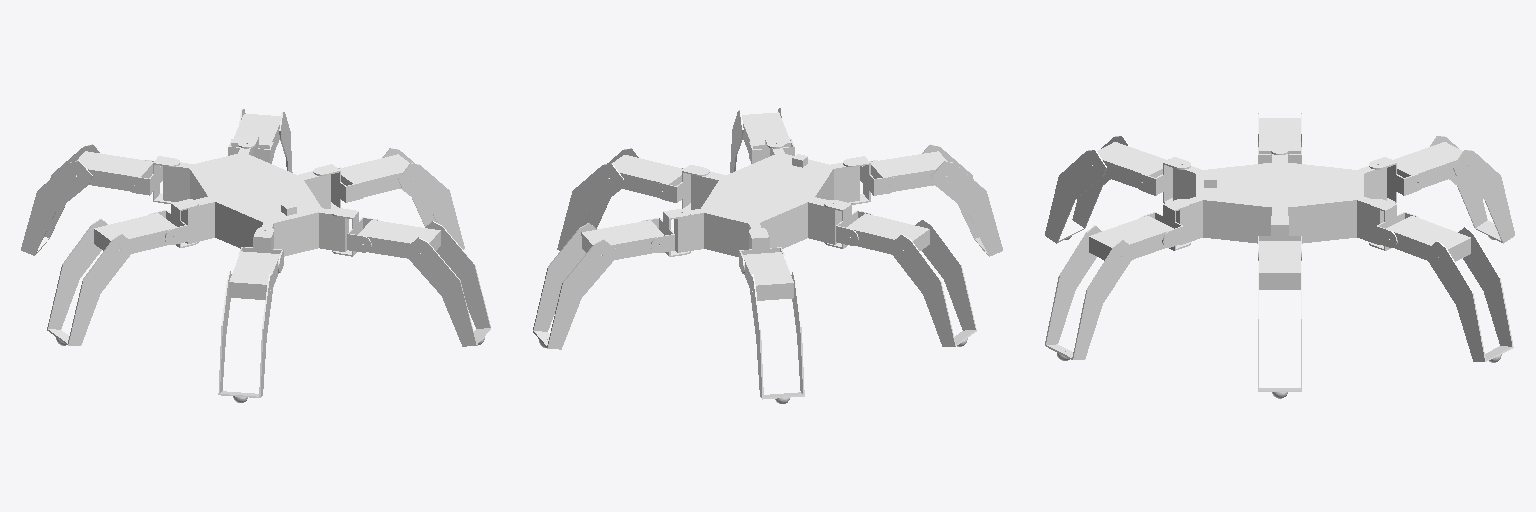
--- What the picture shows (computed from the rendered views, not written in the file) ---
3 views of the same robot in one strip: view 1: azimuth 30°, elevation 25°; view 2: azimuth 150°, elevation 25°; view 3: azimuth 270°, elevation 25° (orthographic).
Robot: Spider.SLDASM — 25 links, 24 joints (18 continuous, 6 fixed); root link body_link; default pose: all joints at 0.
Links seen in each view (by area): view 1: body_link, FrontLeft_Link_3, MidRight_Link_3, BackRight_Link_3, MidLeft_Link_3, MidRight_Link_2, FrontRight_Link_2, FrontLeft_Link_2, BackRight_Link_2, MidLeft_Link_2, FrontRight_Link_3, BackLeft_Link_2 (+6 smaller); view 2: body_link, BackLeft_Link_3, MidRight_Link_3, FrontRight_Link_3, MidLeft_Link_3, MidRight_Link_2, BackRight_Link_2, BackLeft_Link_2, FrontRight_Link_2, MidLeft_Link_2, BackRight_Link_3, FrontLeft_Link_2 (+7 smaller); view 3: body_link, BackLeft_Link_3, FrontLeft_Link_3, BackRight_Link_3, FrontRight_Link_3, BackLeft_Link_2, FrontLeft_Link_2, MidLeft_Link_2, FrontRight_Link_2, BackRight_Link_2, MidRight_Link_2, FrontRight_Link_1 (+4 smaller).
Link boxes in pixels (x1,y1,x2,y2): body_link: (163, 147, 348, 256); FrontLeft_Link_3: (405, 221, 490, 346); MidRight_Link_3: (47, 219, 133, 345); BackRight_Link_3: (21, 144, 101, 255); MidLeft_Link_3: (382, 148, 464, 249); MidRight_Link_2: (94, 213, 176, 253); FrontRight_Link_2: (229, 251, 279, 299); FrontLeft_Link_2: (358, 220, 440, 258); BackRight_Link_2: (76, 151, 152, 190); MidLeft_Link_2: (339, 154, 409, 196); FrontRight_Link_3: (218, 271, 272, 397); BackLeft_Link_2: (232, 114, 280, 149); body_link: (674, 148, 859, 256); BackLeft_Link_3: (533, 223, 617, 349); MidRight_Link_3: (889, 219, 976, 346); FrontRight_Link_3: (922, 144, 1002, 256); MidLeft_Link_3: (557, 148, 639, 250); MidRight_Link_2: (846, 213, 929, 254); BackRight_Link_2: (743, 252, 793, 300); BackLeft_Link_2: (581, 220, 663, 259); FrontRight_Link_2: (870, 151, 946, 191); MidLeft_Link_2: (609, 155, 683, 197); BackRight_Link_3: (750, 272, 804, 399); FrontLeft_Link_2: (742, 112, 790, 149); body_link: (1173, 154, 1386, 244); BackLeft_Link_3: (1425, 227, 1513, 361); FrontLeft_Link_3: (1045, 225, 1134, 359); BackRight_Link_3: (1430, 136, 1514, 243); FrontRight_Link_3: (1045, 136, 1129, 243); BackLeft_Link_2: (1386, 216, 1470, 261); FrontLeft_Link_2: (1089, 216, 1173, 260); MidLeft_Link_2: (1259, 241, 1300, 289); FrontRight_Link_2: (1097, 142, 1166, 187); BackRight_Link_2: (1393, 142, 1462, 187); MidRight_Link_2: (1259, 118, 1300, 153); FrontRight_Link_1: (1135, 157, 1190, 203).
Bounding box of the posed robot: 0.5908 × 0.5798 × 0.1693 m (x, y, z).
25 mesh visuals loaded from 25 distinct referenced files (25 binary STL).

robot.urdf — Spider.SLDASM:
<?xml version="1.0" encoding="utf-8"?>
<!-- This URDF was automatically created by SolidWorks to URDF Exporter! Originally created by Stephen Brawner ([email redacted]) 
     Commit Version: 1.6.0-4-g7f85cfe  Build Version: 1.6.7995.38578
     For more information, please see http://wiki.ros.org/sw_urdf_exporter -->
<robot
  name="Spider.SLDASM">
  <link
    name="body_link">
    <inertial>
      <origin
        xyz="5.29664533703037E-19 -0.000144865532990733 0.0255516997389631"
        rpy="0 0 0" />
      <mass
        value="1.32737614108552" />
      <inertia
        ixx="0.00516439689746087"
        ixy="-1.19602454514094E-20"
        ixz="7.38329197477677E-20"
        iyy="0.0023298754638689"
        iyz="5.85493569360357E-06"
        izz="0.00691561364995837" />
    </inertial>
    <visual>
      <origin
        xyz="0 0 0"
        rpy="0 0 0" />
      <geometry>
        <mesh
          filename="package://Spider.SLDASM/meshes/body_link.STL" />
      </geometry>
      <material
        name="">
        <color
          rgba="1 1 1 1" />
      </material>
    </visual>
    <collision>
      <origin
        xyz="0 0 0"
        rpy="0 0 0" />
      <geometry>
        <mesh
          filename="package://Spider.SLDASM/meshes/body_link.STL" />
      </geometry>
    </collision>
  </link>
  <link
    name="FrontLeft_Link_1">
    <inertial>
      <origin
        xyz="-3.46944695195361E-17 0.0255 0.0205"
        rpy="0 0 0" />
      <mass
        value="0.00922676977252031" />
      <inertia
        ixx="4.24965979791988E-06"
        ixy="-1.68070301361626E-21"
        ixz="5.9292306307801E-21"
        iyy="4.24965979791991E-06"
        iyz="-1.33870853805745E-21"
        izz="5.2892705313521E-06" />
    </inertial>
    <visual>
      <origin
        xyz="0 0 0"
        rpy="0 0 0" />
      <geometry>
        <mesh
          filename="package://Spider.SLDASM/meshes/FrontLeft_Link_1.STL" />
      </geometry>
      <material
        name="">
        <color
          rgba="1 1 1 1" />
      </material>
    </visual>
    <collision>
      <origin
        xyz="0 0 0"
        rpy="0 0 0" />
      <geometry>
        <mesh
          filename="package://Spider.SLDASM/meshes/FrontLeft_Link_1.STL" />
      </geometry>
    </collision>
  </link>
  <joint
    name="FrontLeft_joint_1"
    type="continuous">
    <origin
      xyz="0.0561119378639181 -0.120623091212984 0"
      rpy="1.5707963267949 0 0.691840766475244" />
    <parent
      link="body_link" />
    <child
      link="FrontLeft_Link_1" />
    <axis
      xyz="0 1 0" />
  </joint>
  <link
    name="FrontLeft_Link_2">
    <inertial>
      <origin
        xyz="-1.66533453693773E-16 -6.93889390390723E-18 0.0395000000000001"
        rpy="0 0 0" />
      <mass
        value="0.106269557549334" />
      <inertia
        ixx="8.39635619451228E-05"
        ixy="-1.88128881320756E-20"
        ixz="-3.81164826264435E-20"
        iyy="0.000102698438654554"
        iyz="5.15553422259384E-21"
        izz="2.73329764882054E-05" />
    </inertial>
    <visual>
      <origin
        xyz="0 0 0"
        rpy="0 0 0" />
      <geometry>
        <mesh
          filename="package://Spider.SLDASM/meshes/FrontLeft_Link_2.STL" />
      </geometry>
      <material
        name="">
        <color
          rgba="1 1 1 1" />
      </material>
    </visual>
    <collision>
      <origin
        xyz="0 0 0"
        rpy="0 0 0" />
      <geometry>
        <mesh
          filename="package://Spider.SLDASM/meshes/FrontLeft_Link_2.STL" />
      </geometry>
    </collision>
  </link>
  <joint
    name="FrontLeft_joint_2"
    type="continuous">
    <origin
      xyz="0 0.0255 0.041"
      rpy="0 0 0" />
    <parent
      link="FrontLeft_Link_1" />
    <child
      link="FrontLeft_Link_2" />
    <axis
      xyz="1 0 0" />
  </joint>
  <link
    name="FrontLeft_Link_3">
    <inertial>
      <origin
        xyz="-0.0601821739751955 -1.52655665885959E-16 -0.0105815979870852"
        rpy="0 0 0" />
      <mass
        value="0.0217393761614031" />
      <inertia
        ixx="2.00787196323979E-05"
        ixy="-1.91429446079472E-19"
        ixz="-1.21157508511739E-05"
        iyy="5.15782871842404E-05"
        iyz="-1.23666810299128E-19"
        izz="6.00736400689357E-05" />
    </inertial>
    <visual>
      <origin
        xyz="0 0 0"
        rpy="0 0 0" />
      <geometry>
        <mesh
          filename="package://Spider.SLDASM/meshes/FrontLeft_Link_3.STL" />
      </geometry>
      <material
        name="">
        <color
          rgba="1 1 1 1" />
      </material>
    </visual>
    <collision>
      <origin
        xyz="0 0 0"
        rpy="0 0 0" />
      <geometry>
        <mesh
          filename="package://Spider.SLDASM/meshes/FrontLeft_Link_3.STL" />
      </geometry>
    </collision>
  </link>
  <joint
    name="FrontLeft_joint_3"
    type="continuous">
    <origin
      xyz="0 0 0.079"
      rpy="0 0.7854 1.5708" />
    <parent
      link="FrontLeft_Link_2" />
    <child
      link="FrontLeft_Link_3" />
    <axis
      xyz="0 1 0" />
  </joint>
  <link
    name="FrontLeft_Link_4">
    <inertial>
      <origin
        xyz="-5.55111512312578E-17 -0.0062186714819164 -2.77555756156289E-17"
        rpy="0 0 0" />
      <mass
        value="0.00206305784706667" />
      <inertia
        ixx="5.40069862027422E-08"
        ixy="-3.7843513024301E-23"
        ixz="-4.96308367531817E-24"
        iyy="8.3760148590907E-08"
        iyz="9.0989867380833E-24"
        izz="5.40069862027423E-08" />
    </inertial>
    <visual>
      <origin
        xyz="0 0 0"
        rpy="0 0 0" />
      <geometry>
        <mesh
          filename="package://Spider.SLDASM/meshes/FrontLeft_Link_4.STL" />
      </geometry>
      <material
        name="">
        <color
          rgba="1 1 1 1" />
      </material>
    </visual>
    <collision>
      <origin
        xyz="0 0 0"
        rpy="0 0 0" />
      <geometry>
        <mesh
          filename="package://Spider.SLDASM/meshes/FrontLeft_Link_4.STL" />
      </geometry>
    </collision>
  </link>
  <joint
    name="FrontLeft_joint_4"
    type="fixed">
    <origin
      xyz="-0.14151 0 -0.042758"
      rpy="-0.8671 0.84329 0.84911" />
    <parent
      link="FrontLeft_Link_3" />
    <child
      link="FrontLeft_Link_4" />
    <axis
      xyz="0 0 0" />
  </joint>
  <link
    name="MidLeft_Link_1">
    <inertial>
      <origin
        xyz="1.26579437496567E-17 0.0255 0.0205"
        rpy="0 0 0" />
      <mass
        value="0.0092267697725203" />
      <inertia
        ixx="4.24965979791987E-06"
        ixy="-4.78077791885045E-22"
        ixz="2.89703475150705E-21"
        iyy="4.24965979791991E-06"
        iyz="8.09005257296737E-22"
        izz="5.2892705313521E-06" />
    </inertial>
    <visual>
      <origin
        xyz="0 0 0"
        rpy="0 0 0" />
      <geometry>
        <mesh
          filename="package://Spider.SLDASM/meshes/MidLeft_Link_1.STL" />
      </geometry>
      <material
        name="">
        <color
          rgba="1 1 1 1" />
      </material>
    </visual>
    <collision>
      <origin
        xyz="0 0 0"
        rpy="0 0 0" />
      <geometry>
        <mesh
          filename="package://Spider.SLDASM/meshes/MidLeft_Link_1.STL" />
      </geometry>
    </collision>
  </link>
  <joint
    name="MidLeft_joint_1"
    type="continuous">
    <origin
      xyz="0.0980675851683724 0 0"
      rpy="1.5707963267949 0 1.5707963267949" />
    <parent
      link="body_link" />
    <child
      link="MidLeft_Link_1" />
    <axis
      xyz="0 1 0" />
  </joint>
  <link
    name="MidLeft_Link_2">
    <inertial>
      <origin
        xyz="-1.08332812744749E-16 3.46944695195361E-18 -0.0395"
        rpy="0 0 0" />
      <mass
        value="0.106269557549334" />
      <inertia
        ixx="8.39635619451228E-05"
        ixy="2.45300005461948E-20"
        ixz="3.85900978066218E-20"
        iyy="0.000102698438654554"
        iyz="-2.78641203109297E-21"
        izz="2.73329764882054E-05" />
    </inertial>
    <visual>
      <origin
        xyz="0 0 0"
        rpy="0 0 0" />
      <geometry>
        <mesh
          filename="package://Spider.SLDASM/meshes/MidLeft_Link_2.STL" />
      </geometry>
      <material
        name="">
        <color
          rgba="1 1 1 1" />
      </material>
    </visual>
    <collision>
      <origin
        xyz="0 0 0"
        rpy="0 0 0" />
      <geometry>
        <mesh
          filename="package://Spider.SLDASM/meshes/MidLeft_Link_2.STL" />
      </geometry>
    </collision>
  </link>
  <joint
    name="MidLeft_joint_2"
    type="continuous">
    <origin
      xyz="0 0.0255 0.041"
      rpy="3.1416 0 0" />
    <parent
      link="MidLeft_Link_1" />
    <child
      link="MidLeft_Link_2" />
    <axis
      xyz="1 0 0" />
  </joint>
  <link
    name="MidLeft_Link_3">
    <inertial>
      <origin
        xyz="-0.0601821739751955 9.24257615227299E-17 -0.0105815979870852"
        rpy="0 0 0" />
      <mass
        value="0.0217393761614031" />
      <inertia
        ixx="2.00787196323978E-05"
        ixy="5.66019676991586E-20"
        ixz="-1.21157508511738E-05"
        iyy="5.15782871842404E-05"
        iyz="9.28088296379164E-21"
        izz="6.00736400689357E-05" />
    </inertial>
    <visual>
      <origin
        xyz="0 0 0"
        rpy="0 0 0" />
      <geometry>
        <mesh
          filename="package://Spider.SLDASM/meshes/MidLeft_Link_3.STL" />
      </geometry>
      <material
        name="">
        <color
          rgba="1 1 1 1" />
      </material>
    </visual>
    <collision>
      <origin
        xyz="0 0 0"
        rpy="0 0 0" />
      <geometry>
        <mesh
          filename="package://Spider.SLDASM/meshes/MidLeft_Link_3.STL" />
      </geometry>
    </collision>
  </link>
  <joint
    name="MidLeft_joint_3"
    type="continuous">
    <origin
      xyz="0 0 -0.079"
      rpy="3.1416 -0.7854 -1.5708" />
    <parent
      link="MidLeft_Link_2" />
    <child
      link="MidLeft_Link_3" />
    <axis
      xyz="0 1 0" />
  </joint>
  <link
    name="MidLeft_Link_4">
    <inertial>
      <origin
        xyz="1.11022302462516E-16 -0.0062186714819164 2.77555756156289E-17"
        rpy="0 0 0" />
      <mass
        value="0.00206305784706667" />
      <inertia
        ixx="5.40069862027422E-08"
        ixy="5.24997269507131E-23"
        ixz="-4.96308367531817E-24"
        iyy="8.37601485909069E-08"
        iyz="-8.78455837056728E-24"
        izz="5.40069862027423E-08" />
    </inertial>
    <visual>
      <origin
        xyz="0 0 0"
        rpy="0 0 0" />
      <geometry>
        <mesh
          filename="package://Spider.SLDASM/meshes/MidLeft_Link_4.STL" />
      </geometry>
      <material
        name="">
        <color
          rgba="1 1 1 1" />
      </material>
    </visual>
    <collision>
      <origin
        xyz="0 0 0"
        rpy="0 0 0" />
      <geometry>
        <mesh
          filename="package://Spider.SLDASM/meshes/MidLeft_Link_4.STL" />
      </geometry>
    </collision>
  </link>
  <joint
    name="MidLeft_joint_4"
    type="fixed">
    <origin
      xyz="-0.14151 0 -0.042758"
      rpy="-2.3543 0.77312 -0.95941" />
    <parent
      link="MidLeft_Link_3" />
    <child
      link="MidLeft_Link_4" />
    <axis
      xyz="0 0 0" />
  </joint>
  <link
    name="BackLeft_Link_1">
    <inertial>
      <origin
        xyz="6.93889390390723E-18 0.0255 0.0205"
        rpy="0 0 0" />
      <mass
        value="0.0092267697725203" />
      <inertia
        ixx="4.24965979791988E-06"
        ixy="-1.62371399514312E-21"
        ixz="2.32934060494933E-21"
        iyy="4.24965979791991E-06"
        iyz="-3.61765152541977E-22"
        izz="5.28927053135211E-06" />
    </inertial>
    <visual>
      <origin
        xyz="0 0 0"
        rpy="0 0 0" />
      <geometry>
        <mesh
          filename="package://Spider.SLDASM/meshes/BackLeft_Link_1.STL" />
      </geometry>
      <material
        name="">
        <color
          rgba="1 1 1 1" />
      </material>
    </visual>
    <collision>
      <origin
        xyz="0 0 0"
        rpy="0 0 0" />
      <geometry>
        <mesh
          filename="package://Spider.SLDASM/meshes/BackLeft_Link_1.STL" />
      </geometry>
    </collision>
  </link>
  <joint
    name="BackLeft_joint_1"
    type="continuous">
    <origin
      xyz="0.056112 0.12062 0"
      rpy="1.5708 0 2.4498" />
    <parent
      link="body_link" />
    <child
      link="BackLeft_Link_1" />
    <axis
      xyz="0 1 0" />
  </joint>
  <link
    name="BackLeft_Link_2">
    <inertial>
      <origin
        xyz="2.35922392732846E-16 9.71445146547012E-17 0.0395"
        rpy="0 0 0" />
      <mass
        value="0.106269557549334" />
      <inertia
        ixx="8.39635619451228E-05"
        ixy="5.06102185984444E-20"
        ixz="-4.91279109407494E-20"
        iyy="0.000102698438654554"
        iyz="-1.54398224416698E-19"
        izz="2.73329764882055E-05" />
    </inertial>
    <visual>
      <origin
        xyz="0 0 0"
        rpy="0 0 0" />
      <geometry>
        <mesh
          filename="package://Spider.SLDASM/meshes/BackLeft_Link_2.STL" />
      </geometry>
      <material
        name="">
        <color
          rgba="1 1 1 1" />
      </material>
    </visual>
    <collision>
      <origin
        xyz="0 0 0"
        rpy="0 0 0" />
      <geometry>
        <mesh
          filename="package://Spider.SLDASM/meshes/BackLeft_Link_2.STL" />
      </geometry>
    </collision>
  </link>
  <joint
    name="BackLeft_joint2"
    type="continuous">
    <origin
      xyz="0 0.0255 0.041"
      rpy="0.021783 0 0" />
    <parent
      link="BackLeft_Link_1" />
    <child
      link="BackLeft_Link_2" />
    <axis
      xyz="1 0 0" />
  </joint>
  <link
    name="BackLeft_Link_3">
    <inertial>
      <origin
        xyz="-0.0601821739751954 0.00200000000000009 -0.0105815979870852"
        rpy="0 0 0" />
      <mass
        value="0.0217393761614031" />
      <inertia
        ixx="2.00787196323978E-05"
        ixy="1.5161889755852E-19"
        ixz="-1.21157508511738E-05"
        iyy="5.15782871842404E-05"
        iyz="2.71050543121376E-20"
        izz="6.00736400689357E-05" />
    </inertial>
    <visual>
      <origin
        xyz="0 0 0"
        rpy="0 0 0" />
      <geometry>
        <mesh
          filename="package://Spider.SLDASM/meshes/BackLeft_Link_3.STL" />
      </geometry>
      <material
        name="">
        <color
          rgba="1 1 1 1" />
      </material>
    </visual>
    <collision>
      <origin
        xyz="0 0 0"
        rpy="0 0 0" />
      <geometry>
        <mesh
          filename="package://Spider.SLDASM/meshes/BackLeft_Link_3.STL" />
      </geometry>
    </collision>
  </link>
  <joint
    name="BackLeft_joint_3"
    type="continuous">
    <origin
      xyz="0.002 0 0.079"
      rpy="0 0.7854 1.5708" />
    <parent
      link="BackLeft_Link_2" />
    <child
      link="BackLeft_Link_3" />
    <axis
      xyz="0 1 0" />
  </joint>
  <link
    name="BackLeft_Link_4">
    <inertial>
      <origin
        xyz="0 -0.00621867148191635 0"
        rpy="0 0 0" />
      <mass
        value="0.00206305784706667" />
      <inertia
        ixx="5.40069862027422E-08"
        ixy="-1.69572025573371E-23"
        ixz="6.61744490042422E-24"
        iyy="8.37601485909069E-08"
        iyz="7.73413872737081E-23"
        izz="5.40069862027422E-08" />
    </inertial>
    <visual>
      <origin
        xyz="0 0 0"
        rpy="0 0 0" />
      <geometry>
        <mesh
          filename="package://Spider.SLDASM/meshes/BackLeft_Link_4.STL" />
      </geometry>
      <material
        name="">
        <color
          rgba="1 1 1 1" />
      </material>
    </visual>
    <collision>
      <origin
        xyz="0 0 0"
        rpy="0 0 0" />
      <geometry>
        <mesh
          filename="package://Spider.SLDASM/meshes/BackLeft_Link_4.STL" />
      </geometry>
    </collision>
  </link>
  <joint
    name="BackLeft_joint_4"
    type="fixed">
    <origin
      xyz="-0.14151 0.002 -0.042758"
      rpy="-2.6097 -0.022211 -1.5839" />
    <parent
      link="BackLeft_Link_3" />
    <child
      link="BackLeft_Link_4" />
    <axis
      xyz="0 0 0" />
  </joint>
  <link
    name="FrontRight_Link_1">
    <inertial>
      <origin
        xyz="1.38777878078145E-17 0.0255 0.0205"
        rpy="0 0 0" />
      <mass
        value="0.0092267697725203" />
      <inertia
        ixx="4.24965979791987E-06"
        ixy="-1.73164778208523E-21"
        ixz="5.29395592033938E-21"
        iyy="4.24965979791991E-06"
        iyz="-9.5399584550796E-22"
        izz="5.28927053135211E-06" />
    </inertial>
    <visual>
      <origin
        xyz="0 0 0"
        rpy="0 0 0" />
      <geometry>
        <mesh
          filename="package://Spider.SLDASM/meshes/FrontRight_Link_1.STL" />
      </geometry>
      <material
        name="">
        <color
          rgba="1 1 1 1" />
      </material>
    </visual>
    <collision>
      <origin
        xyz="0 0 0"
        rpy="0 0 0" />
      <geometry>
        <mesh
          filename="package://Spider.SLDASM/meshes/FrontRight_Link_1.STL" />
      </geometry>
    </collision>
  </link>
  <joint
    name="FrontRight_joint_1"
    type="continuous">
    <origin
      xyz="-0.056112 -0.12062 0"
      rpy="1.5708 0 -0.69184" />
    <parent
      link="body_link" />
    <child
      link="FrontRight_Link_1" />
    <axis
      xyz="0 1 0" />
  </joint>
  <link
    name="FrontRight_Link_2">
    <inertial>
      <origin
        xyz="1.52655665885959E-16 -3.46944695195361E-17 -0.0395000000000001"
        rpy="0 0 0" />
      <mass
        value="0.106269557549334" />
      <inertia
        ixx="8.39635619451228E-05"
        ixy="1.4087901723497E-22"
        ixz="-6.7762635780344E-21"
        iyy="0.000102698438654554"
        iyz="2.22835061106704E-21"
        izz="2.73329764882055E-05" />
    </inertial>
    <visual>
      <origin
        xyz="0 0 0"
        rpy="0 0 0" />
      <geometry>
        <mesh
          filename="package://Spider.SLDASM/meshes/FrontRight_Link_2.STL" />
      </geometry>
      <material
        name="">
        <color
          rgba="1 1 1 1" />
      </material>
    </visual>
    <collision>
      <origin
        xyz="0 0 0"
        rpy="0 0 0" />
      <geometry>
        <mesh
          filename="package://Spider.SLDASM/meshes/FrontRight_Link_2.STL" />
      </geometry>
    </collision>
  </link>
  <joint
    name="FrontRight_joint_2"
    type="continuous">
    <origin
      xyz="0 0.0255 0.041"
      rpy="3.1416 0 3.1416" />
    <parent
      link="FrontRight_Link_1" />
    <child
      link="FrontRight_Link_2" />
    <axis
      xyz="1 0 0" />
  </joint>
  <link
    name="FrontRight_Link_3">
    <inertial>
      <origin
        xyz="-0.0601821739751955 1.38777878078145E-17 0.0105815979870852"
        rpy="0 0 0" />
      <mass
        value="0.0217393761614032" />
      <inertia
        ixx="2.00787196323978E-05"
        ixy="5.50571415715295E-20"
        ixz="1.21157508511739E-05"
        iyy="5.15782871842407E-05"
        iyz="-7.45388993583784E-20"
        izz="6.0073640068936E-05" />
    </inertial>
    <visual>
      <origin
        xyz="0 0 0"
        rpy="0 0 0" />
      <geometry>
        <mesh
          filename="package://Spider.SLDASM/meshes/FrontRight_Link_3.STL" />
      </geometry>
      <material
        name="">
        <color
          rgba="1 1 1 1" />
      </material>
    </visual>
    <collision>
      <origin
        xyz="0 0 0"
        rpy="0 0 0" />
      <geometry>
        <mesh
          filename="package://Spider.SLDASM/meshes/FrontRight_Link_3.STL" />
      </geometry>
    </collision>
  </link>
  <joint
    name="FrontRight_joint_3"
    type="continuous">
    <origin
      xyz="0 0 -0.079"
      rpy="0 -0.7854 1.5708" />
    <parent
      link="FrontRight_Link_2" />
    <child
      link="FrontRight_Link_3" />
    <axis
      xyz="0 1 0" />
  </joint>
  <link
    name="FrontRight_Link_4">
    <inertial>
      <origin
        xyz="-1.66533453693773E-16 -0.00621867148191638 0"
        rpy="0 0 0" />
      <mass
        value="0.00206305784706667" />
      <inertia
        ixx="5.40069862027422E-08"
        ixy="-5.99705944100945E-23"
        ixz="1.65436122510606E-24"
        iyy="8.37601485909069E-08"
        iyz="3.80503081774393E-23"
        izz="5.40069862027422E-08" />
    </inertial>
    <visual>
      <origin
        xyz="0 0 0"
        rpy="0 0 0" />
      <geometry>
        <mesh
          filename="package://Spider.SLDASM/meshes/FrontRight_Link_4.STL" />
      </geometry>
      <material
        name="">
        <color
          rgba="1 1 1 1" />
      </material>
    </visual>
    <collision>
      <origin
        xyz="0 0 0"
        rpy="0 0 0" />
      <geometry>
        <mesh
          filename="package://Spider.SLDASM/meshes/FrontRight_Link_4.STL" />
      </geometry>
    </collision>
  </link>
  <joint
    name="FrontRight_joint_4"
    type="fixed">
    <origin
      xyz="-0.14151 0 0.042758"
      rpy="2.607 0.098772 -1.6291" />
    <parent
      link="FrontRight_Link_3" />
    <child
      link="FrontRight_Link_4" />
    <axis
      xyz="0 0 0" />
  </joint>
  <link
    name="MidRight_Link_1">
    <inertial>
      <origin
        xyz="-8.41097616963304E-17 0.0255 0.0205"
        rpy="0 0 0" />
      <mass
        value="0.00922676977252032" />
      <inertia
        ixx="4.24965979791988E-06"
        ixy="-1.06358121966661E-21"
        ixz="2.06795153138257E-21"
        iyy="4.24965979791991E-06"
        iyz="2.86413056069044E-23"
        izz="5.28927053135211E-06" />
    </inertial>
    <visual>
      <origin
        xyz="0 0 0"
        rpy="0 0 0" />
      <geometry>
        <mesh
          filename="package://Spider.SLDASM/meshes/MidRight_Link_1.STL" />
      </geometry>
      <material
        name="">
        <color
          rgba="1 1 1 1" />
      </material>
    </visual>
    <collision>
      <origin
        xyz="0 0 0"
        rpy="0 0 0" />
      <geometry>
        <mesh
          filename="package://Spider.SLDASM/meshes/MidRight_Link_1.STL" />
      </geometry>
    </collision>
  </link>
  <joint
    name="MidRight_joint_1"
    type="continuous">
    <origin
      xyz="-0.098068 0 0"
      rpy="1.5708 0 -1.5708" />
    <parent
      link="body_link" />
    <child
      link="MidRight_Link_1" />
    <axis
      xyz="0 1 0" />
  </joint>
  <link
    name="MidRight_Link_2">
    <inertial>
      <origin
        xyz="2.69859394554151E-16 6.93889390390723E-18 0.0395"
        rpy="0 0 0" />
      <mass
        value="0.106269557549334" />
      <inertia
        ixx="8.39635619451228E-05"
        ixy="-3.42573301797734E-21"
        ixz="-2.35800132494318E-20"
        iyy="0.000102698438654554"
        iyz="-2.00838374561794E-21"
        izz="2.73329764882054E-05" />
    </inertial>
    <visual>
      <origin
        xyz="0 0 0"
        rpy="0 0 0" />
      <geometry>
        <mesh
          filename="package://Spider.SLDASM/meshes/MidRight_Link_2.STL" />
      </geometry>
      <material
        name="">
        <color
          rgba="1 1 1 1" />
      </material>
    </visual>
    <collision>
      <origin
        xyz="0 0 0"
        rpy="0 0 0" />
      <geometry>
        <mesh
          filename="package://Spider.SLDASM/meshes/MidRight_Link_2.STL" />
      </geometry>
    </collision>
  </link>
  <joint
    name="MidRight_joint_2"
    type="continuous">
    <origin
      xyz="0 0.0255 0.041"
      rpy="0 0 3.1416" />
    <parent
      link="MidRight_Link_1" />
    <child
      link="MidRight_Link_2" />
    <axis
      xyz="1 0 0" />
  </joint>
  <link
    name="MidRight_Link_3">
    <inertial>
      <origin
        xyz="-0.0601821739751954 -3.53197869880104E-16 0.010581597987085"
        rpy="0 0 0" />
      <mass
        value="0.0217393761614031" />
      <inertia
        ixx="2.00787196323977E-05"
        ixy="-7.74771259389682E-20"
        ixz="1.21157508511738E-05"
        iyy="5.15782871842401E-05"
        iyz="4.49614652860362E-20"
        izz="6.00736400689355E-05" />
    </inertial>
    <visual>
      <origin
        xyz="0 0 0"
        rpy="0 0 0" />
      <geometry>
        <mesh
          filename="package://Spider.SLDASM/meshes/MidRight_Link_3.STL" />
      </geometry>
      <material
        name="">
        <color
          rgba="1 1 1 1" />
      </material>
    </visual>
    <collision>
      <origin
        xyz="0 0 0"
        rpy="0 0 0" />
      <geometry>
        <mesh
          filename="package://Spider.SLDASM/meshes/MidRight_Link_3.STL" />
      </geometry>
    </collision>
  </link>
  <joint
    name="MidRight_joint_3"
    type="continuous">
    <origin
      xyz="0 0 0.079"
      rpy="3.1416 0.7854 -1.5708" />
    <parent
      link="MidRight_Link_2" />
    <child
      link="MidRight_Link_3" />
    <axis
      xyz="0 1 0" />
  </joint>
  <link
    name="MidRight_Link_4">
    <inertial>
      <origin
        xyz="8.32667268468867E-17 -0.0062186714819164 -2.77555756156289E-17"
        rpy="0 0 0" />
      <mass
        value="0.00206305784706667" />
      <inertia
        ixx="5.40069862027422E-08"
        ixy="-6.25849693602948E-24"
        ixz="4.96308367531817E-24"
        iyy="8.37601485909068E-08"
        iyz="-2.99341248654535E-24"
        izz="5.40069862027422E-08" />
    </inertial>
    <visual>
      <origin
        xyz="0 0 0"
        rpy="0 0 0" />
      <geometry>
        <mesh
          filename="package://Spider.SLDASM/meshes/MidRight_Link_4.STL" />
      </geometry>
      <material
        name="">
        <color
          rgba="1 1 1 1" />
      </material>
    </visual>
    <collision>
      <origin
        xyz="0 0 0"
        rpy="0 0 0" />
      <geometry>
        <mesh
          filename="package://Spider.SLDASM/meshes/MidRight_Link_4.STL" />
      </geometry>
    </collision>
  </link>
  <joint
    name="MidRight_joint_4"
    type="fixed">
    <origin
      xyz="-0.141507123292306 0 0.0427582841808011"
      rpy="2.31387630462524 0.811304701343985 -2.23898822262799" />
    <parent
      link="MidRight_Link_3" />
    <child
      link="MidRight_Link_4" />
    <axis
      xyz="0 0 0" />
  </joint>
  <link
    name="BackRight_Link_1">
    <inertial>
      <origin
        xyz="-1.38777878078145E-17 0.0255 0.0205"
        rpy="0 0 0" />
      <mass
        value="0.00922676977252029" />
      <inertia
        ixx="4.24965979791987E-06"
        ixy="4.24450755419139E-22"
        ixz="5.9292306307801E-21"
        iyy="4.24965979791991E-06"
        iyz="-9.21397860125173E-22"
        izz="5.2892705313521E-06" />
    </inertial>
    <visual>
      <origin
        xyz="0 0 0"
        rpy="0 0 0" />
      <geometry>
        <mesh
          filename="package://Spider.SLDASM/meshes/BackRight_Link_1.STL" />
      </geometry>
      <material
        name="">
        <color
          rgba="1 1 1 1" />
      </material>
    </visual>
    <collision>
      <origin
        xyz="0 0 0"
        rpy="0 0 0" />
      <geometry>
        <mesh
          filename="package://Spider.SLDASM/meshes/BackRight_Link_1.STL" />
      </geometry>
    </collision>
  </link>
  <joint
    name="BackRight_joint_1"
    type="continuous">
    <origin
      xyz="-0.056112 0.12062 0"
      rpy="1.5708 0 -2.4498" />
    <parent
      link="body_link" />
    <child
      link="BackRight_Link_1" />
    <axis
      xyz="0 1 0" />
  </joint>
  <link
    name="BackRight_Link_2">
    <inertial>
      <origin
        xyz="1.80411241501588E-16 0 -0.0395"
        rpy="0 0 0" />
      <mass
        value="0.106269557549334" />
      <inertia
        ixx="8.39635619451228E-05"
        ixy="2.05305098681031E-20"
        ixz="6.18334051495639E-20"
        iyy="0.000102698438654554"
        iyz="-3.31645763284861E-21"
        izz="2.73329764882054E-05" />
    </inertial>
    <visual>
      <origin
        xyz="0 0 0"
        rpy="0 0 0" />
      <geometry>
        <mesh
          filename="package://Spider.SLDASM/meshes/BackRight_Link_2.STL" />
      </geometry>
      <material
        name="">
        <color
          rgba="1 1 1 1" />
      </material>
    </visual>
    <collision>
      <origin
        xyz="0 0 0"
        rpy="0 0 0" />
      <geometry>
        <mesh
          filename="package://Spider.SLDASM/meshes/BackRight_Link_2.STL" />
      </geometry>
    </collision>
  </link>
  <joint
    name="BackRight_joint_2"
    type="continuous">
    <origin
      xyz="0 0.0255 0.041"
      rpy="3.1416 0 3.1416" />
    <parent
      link="BackRight_Link_1" />
    <child
      link="BackRight_Link_2" />
    <axis
      xyz="1 0 0" />
  </joint>
  <link
    name="BackRight_Link_3">
    <inertial>
      <origin
        xyz="-0.0601821739751955 1.2490009027033E-16 0.0105815979870851"
        rpy="0 0 0" />
      <mass
        value="0.0217393761614032" />
      <inertia
        ixx="2.00787196323978E-05"
        ixy="2.39710324072967E-19"
        ixz="1.21157508511738E-05"
        iyy="5.15782871842403E-05"
        iyz="-7.6232965252887E-20"
        izz="6.00736400689357E-05" />
    </inertial>
    <visual>
      <origin
        xyz="0 0 0"
        rpy="0 0 0" />
      <geometry>
        <mesh
          filename="package://Spider.SLDASM/meshes/BackRight_Link_3.STL" />
      </geometry>
      <material
        name="">
        <color
          rgba="1 1 1 1" />
      </material>
    </visual>
    <collision>
      <origin
        xyz="0 0 0"
        rpy="0 0 0" />
      <geometry>
        <mesh
          filename="package://Spider.SLDASM/meshes/BackRight_Link_3.STL" />
      </geometry>
    </collision>
  </link>
  <joint
    name="BackRight_joint_3"
    type="continuous">
    <origin
      xyz="0 0 -0.079"
      rpy="0 -0.7854 1.5708" />
    <parent
      link="BackRight_Link_2" />
    <child
      link="BackRight_Link_3" />
    <axis
      xyz="0 1 0" />
  </joint>
  <link
    name="BackRight_Link_4">
    <inertial>
      <origin
        xyz="-2.77555756156289E-17 -0.0062186714819164 -1.11022302462516E-16"
        rpy="0 0 0" />
      <mass
        value="0.00206305784706667" />
      <inertia
        ixx="5.40069862027422E-08"
        ixy="3.12260681238768E-23"
        ixz="6.61744490042422E-24"
        iyy="8.37601485909068E-08"
        iyz="-9.92616735063633E-24"
        izz="5.40069862027422E-08" />
    </inertial>
    <visual>
      <origin
        xyz="0 0 0"
        rpy="0 0 0" />
      <geometry>
        <mesh
          filename="package://Spider.SLDASM/meshes/BackRight_Link_4.STL" />
      </geometry>
      <material
        name="">
        <color
          rgba="1 1 1 1" />
      </material>
    </visual>
    <collision>
      <origin
        xyz="0 0 0"
        rpy="0 0 0" />
      <geometry>
        <mesh
          filename="package://Spider.SLDASM/meshes/BackRight_Link_4.STL" />
      </geometry>
    </collision>
  </link>
  <joint
    name="BackRight_joint_4"
    type="fixed">
    <origin
      xyz="-0.14151 0 0.042758"
      rpy="2.5739 -0.3392 -1.3617" />
    <parent
      link="BackRight_Link_3" />
    <child
      link="BackRight_Link_4" />
    <axis
      xyz="0 0 0" />
  </joint>
</robot>
